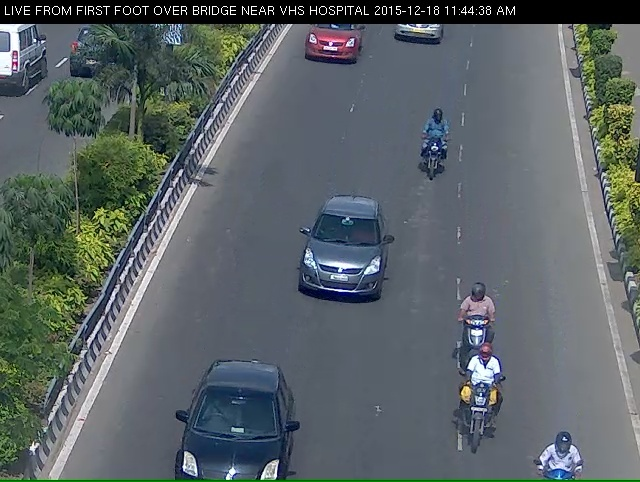Car: (291, 211, 395, 335)
Person: (459, 374, 503, 480), (452, 303, 498, 390), (410, 115, 454, 197)
